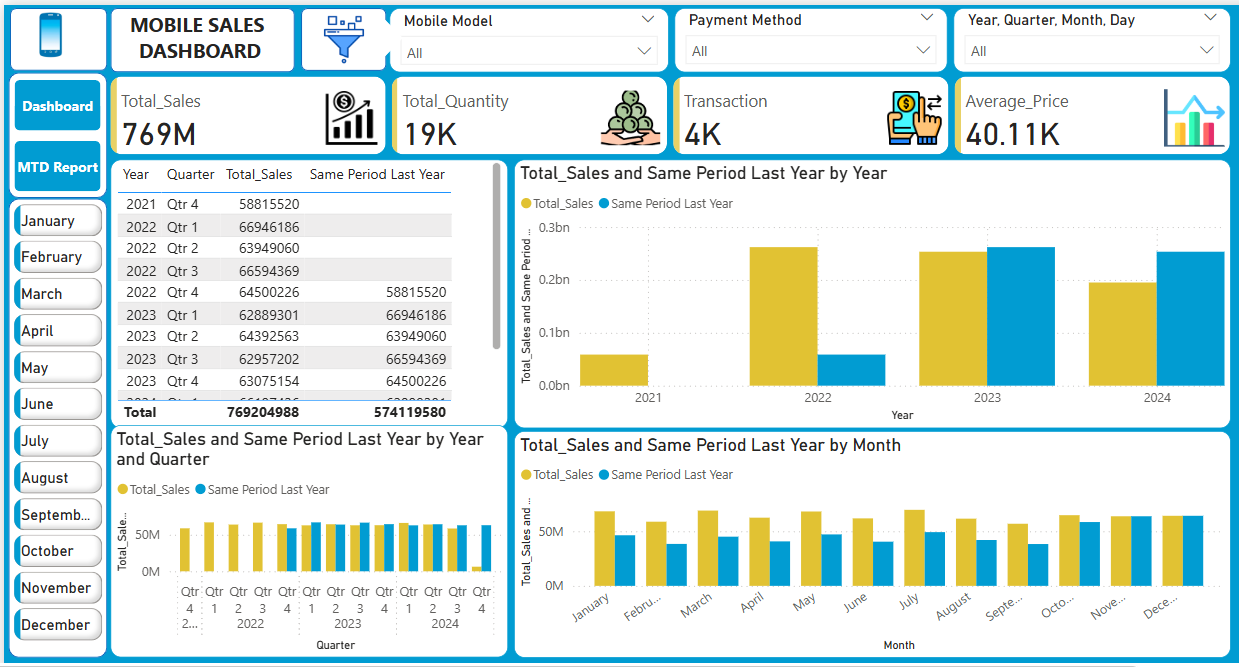

What the dashboard file says about the page in this screenshot:
{"tool":"powerbi","page":{"name":"Same Period Last Year","canvas":[1280,720],"ordinal":2},"visuals":[{"type":"shape","box":[5.7,2.9,92.9,60],"z":0},{"type":"image","box":[12,0,66,56],"z":1000},{"type":"shape","box":[4.3,64.3,94.3,120],"z":2000},{"type":"cardVisual","fields":{"Data":["Sales_Data.Total_Sales","Sales_Data.Total_Quantity","Sales_Data.Transaction","Sales_Data.Average_Price"]},"box":[101.4,62.9,1067.1,84.3],"z":3000},{"type":"slicer","fields":{"Values":["Sales_Data.Mobile Model"]},"box":[367.1,2.9,265.7,61.4],"z":4000},{"type":"slicer","fields":{"Values":["Sales_Data.Payment Method"]},"box":[638.6,2.9,260,61.4],"z":5000},{"type":"slicer","fields":{"Values":["Custom_Calendar.Date.Variation.Date Hierarchy.Year","Custom_Calendar.Date.Variation.Date Hierarchy.Quarter","Custom_Calendar.Date.Variation.Date Hierarchy.Month","Custom_Calendar.Date.Variation.Date Hierarchy.Day"]},"box":[904.3,2.9,264.3,61.4],"z":6000},{"type":"shape","box":[282.9,2.9,81.4,60],"z":7000},{"type":"image","box":[257.1,4.3,132.9,57.1],"z":8000},{"type":"shape","box":[344.3,12.9,35.7,37.1],"z":9000},{"type":"shape","box":[101.4,2.9,175.7,61.4],"z":10000},{"type":"textbox","box":[90,0,192.9,81.4],"z":11000},{"type":"shape","box":[4.3,184.3,94.3,437.1],"z":12000},{"type":"advancedSlicerVisual","fields":{"Values":["Custom_Calendar.Date.Variation.Date Hierarchy.Month"]},"box":[4.3,184.3,94.3,437.1],"z":13000},{"type":"tableEx","fields":{"Values":["Custom_Calendar.Date.Variation.Date Hierarchy.Year","Custom_Calendar.Date.Variation.Date Hierarchy.Quarter","Sales_Data.Total_Sales","Sales_Data.Same Period Last Year"]},"box":[101.4,147.1,378.6,255.7],"z":14000},{"type":"clusteredColumnChart","fields":{"Category":["Custom_Calendar.Date.Variation.Date Hierarchy.Year","Custom_Calendar.Date.Variation.Date Hierarchy.Quarter"],"Y":["Sales_Data.Total_Sales","Sales_Data.Same Period Last Year"]},"box":[485.7,147.1,682.9,255.7],"z":15000},{"type":"clusteredColumnChart","fields":{"Y":["Sales_Data.Total_Sales","Sales_Data.Same Period Last Year"],"Category":["Custom_Calendar.Date.Variation.Date Hierarchy.Year","Custom_Calendar.Date.Variation.Date Hierarchy.Quarter","Custom_Calendar.Date.Variation.Date Hierarchy.Month","Custom_Calendar.Date.Variation.Date Hierarchy.Day"]},"box":[485.7,405.7,682.9,215.7],"z":16000},{"type":"clusteredColumnChart","fields":{"Y":["Sales_Data.Total_Sales","Sales_Data.Same Period Last Year"],"Category":["Custom_Calendar.Date.Variation.Date Hierarchy.Year","Custom_Calendar.Date.Variation.Date Hierarchy.Quarter","Custom_Calendar.Date.Variation.Date Hierarchy.Month","Custom_Calendar.Date.Variation.Date Hierarchy.Day"]},"box":[101.4,400,378.6,221.4],"z":17000},{"type":"pageNavigator","box":[10,71.4,82.9,107.1],"z":18000}]}

Visuals, with their boxes on the page's 1280x720 design canvas (x1, y1, x2, y2). These are canvas units, not pixel positions in the 1239x667 screenshot, which may show the page scaled, cropped or inside an application window:
shape: detection(6, 3, 99, 63)
image: detection(12, 0, 78, 56)
shape: detection(4, 64, 99, 184)
cardVisual - Sales_Data.Total_Sales x Sales_Data.Total_Quantity: detection(101, 63, 1168, 147)
slicer - Sales_Data.Mobile Model: detection(367, 3, 633, 64)
slicer - Sales_Data.Payment Method: detection(639, 3, 899, 64)
slicer - Custom_Calendar.Date.Variation.Date Hierarchy.Year x Custom_Calendar.Date.Variation.Date Hierarchy.Quarter: detection(904, 3, 1169, 64)
shape: detection(283, 3, 364, 63)
image: detection(257, 4, 390, 61)
shape: detection(344, 13, 380, 50)
shape: detection(101, 3, 277, 64)
textbox: detection(90, 0, 283, 81)
shape: detection(4, 184, 99, 621)
advancedSlicerVisual - Custom_Calendar.Date.Variation.Date Hierarchy.Month: detection(4, 184, 99, 621)
tableEx - Custom_Calendar.Date.Variation.Date Hierarchy.Year x Custom_Calendar.Date.Variation.Date Hierarchy.Quarter: detection(101, 147, 480, 403)
clusteredColumnChart - Custom_Calendar.Date.Variation.Date Hierarchy.Year x Custom_Calendar.Date.Variation.Date Hierarchy.Quarter: detection(486, 147, 1169, 403)
clusteredColumnChart - Sales_Data.Total_Sales x Sales_Data.Same Period Last Year: detection(486, 406, 1169, 621)
clusteredColumnChart - Sales_Data.Total_Sales x Sales_Data.Same Period Last Year: detection(101, 400, 480, 621)
pageNavigator: detection(10, 71, 93, 178)
